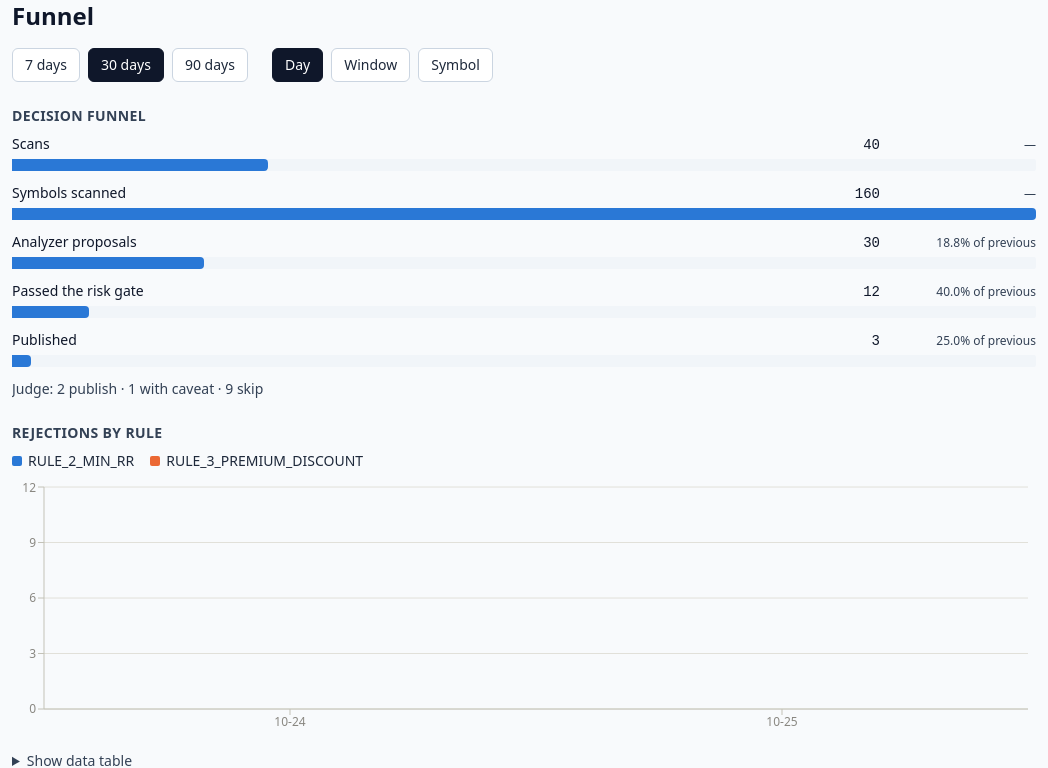
Test: FunnelPage › requests the 30-day default grouped by day, and re-requests on period and grouping changes
The image size is (1048, 768).
Check: the list named "Funnel stages" is shown, box [12, 134, 1036, 367]
What coordinates should you click on to do the following:
click the radio button labelled "7 days"
I would click on:
 (46, 65)
Its box is [12, 48, 80, 82].
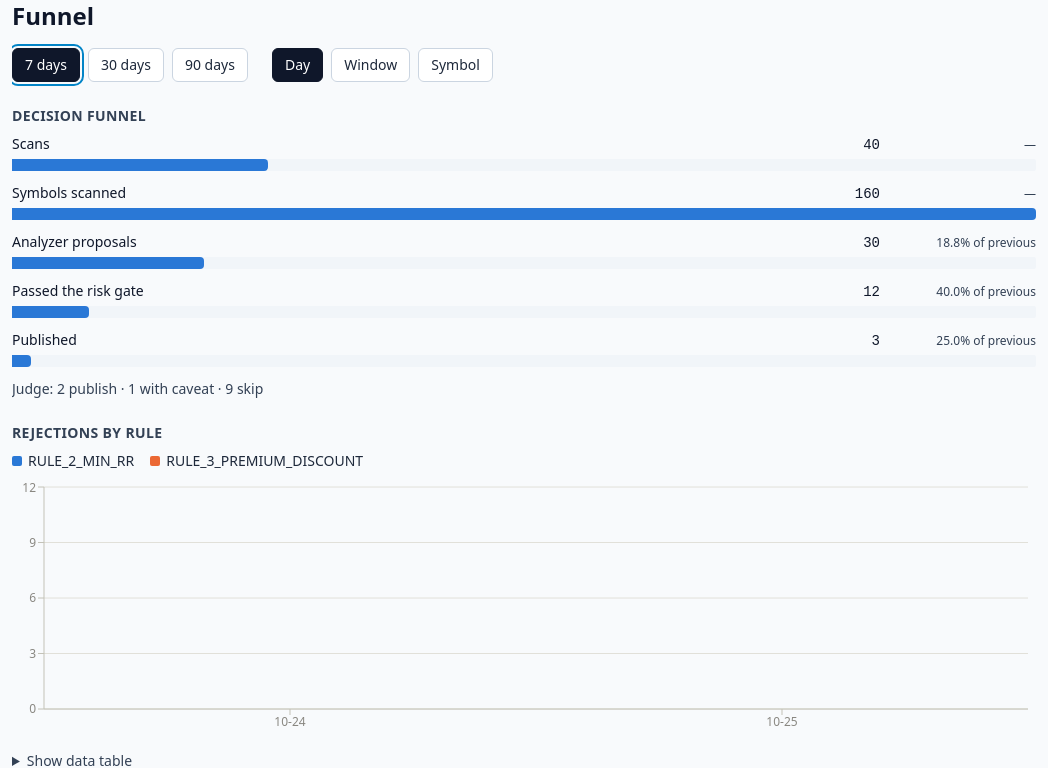
What coordinates should you click on to do the following:
click the radio button labelled "Symbol"
I would click on:
 (456, 65)
Its box is [418, 48, 493, 82].
(page scrolled)
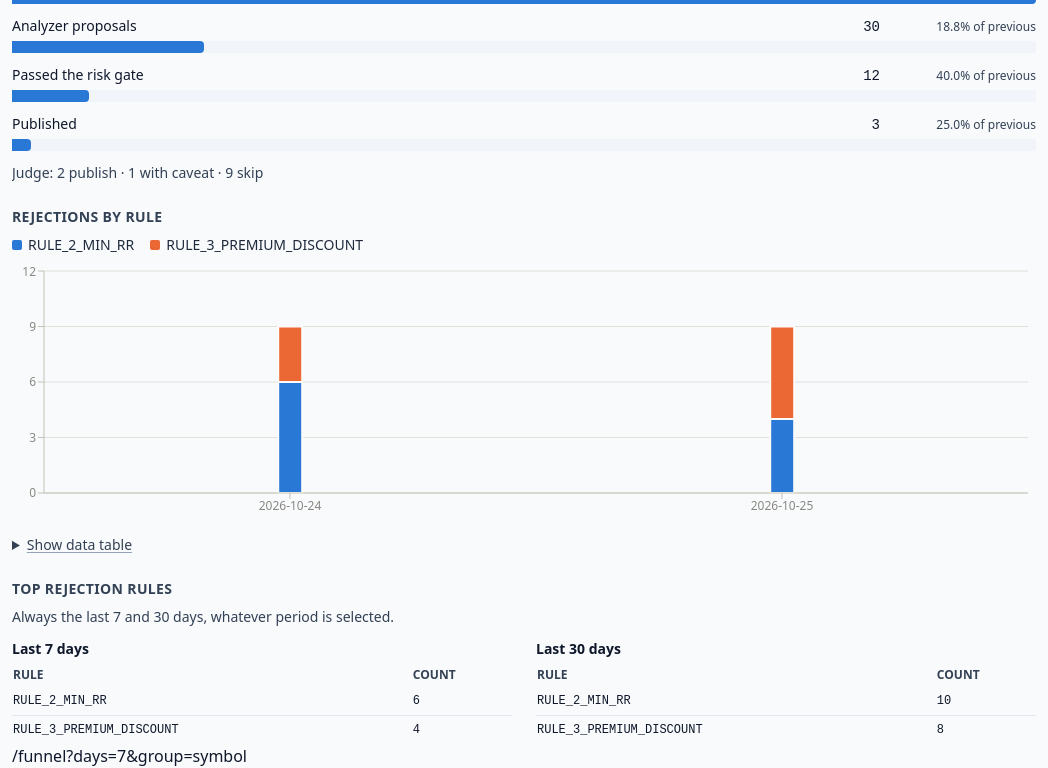
Check: the text with test id "where" reads "/funnel?days=7&group=symbol", box [12, 745, 247, 767]
